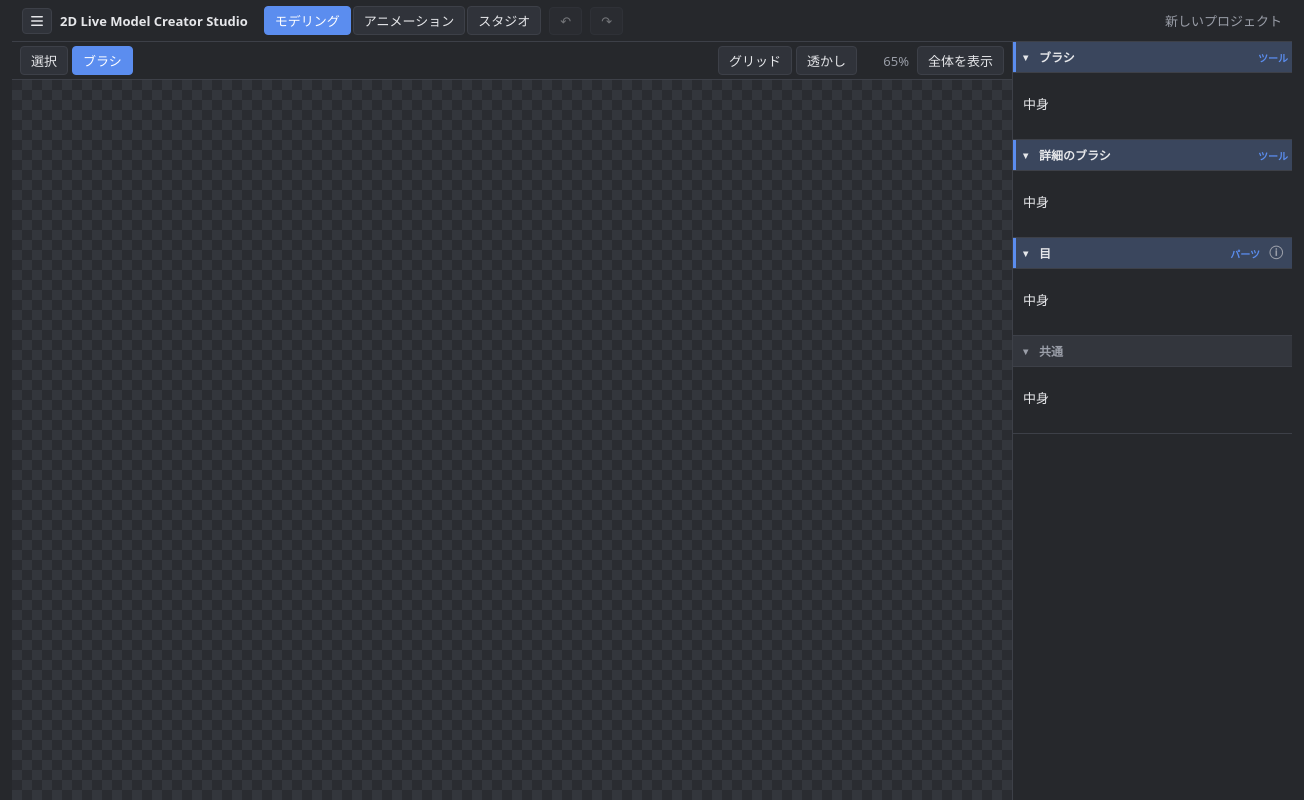
Test: 見出しの ⓘ › 説明のあるパレットにだけ出し、押すと目的と流れを出す。Esc・もう一度押すと閉じ、たたんでいても見られる
Step 1. Click the button named "「目」の説明" → (1276, 253), box [1264,241,1288,265]
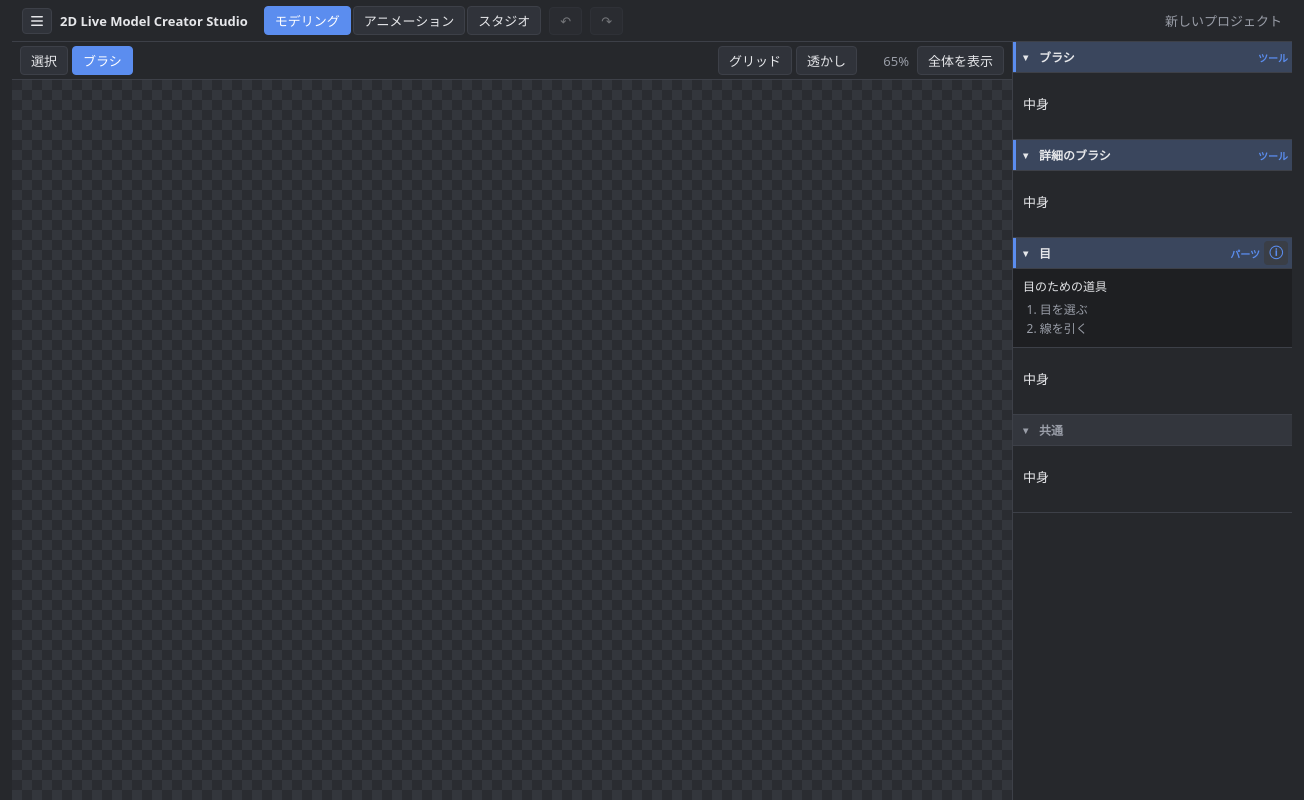
Now the element named "「目」の説明" shows "目のための道具", box [1023,278,1107,295]
Now the list items read "目を選ぶ", "線を引く", in this order, box [1040,301,1088,318]; [1040,320,1088,337]
Step 2. Press Escape in the button named "「目」の説明", box [1264,241,1288,265]
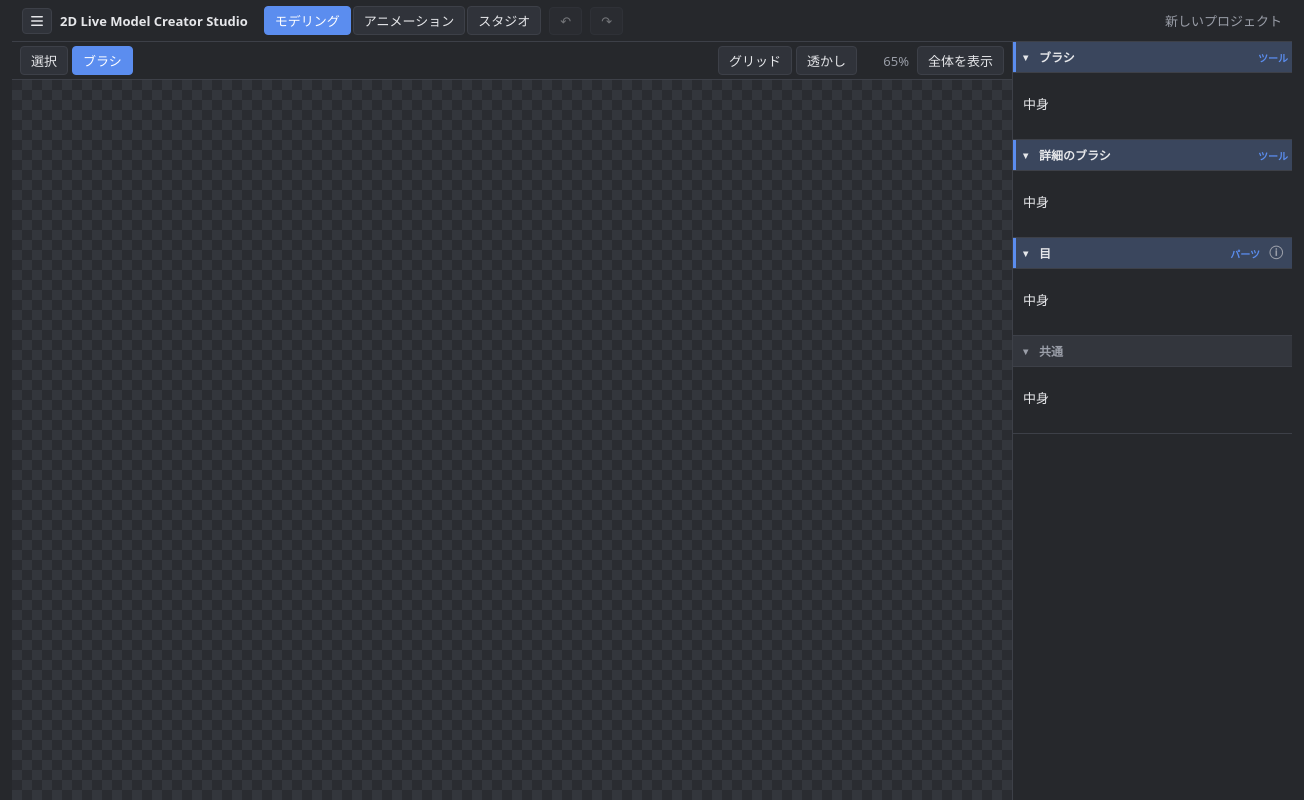
Now the text "目のための道具 目を選ぶ 線を引く" is gone
# たたんでいても説明は開ける（見出しの下に出す）
Step 3. Click the button "▾ 目" → (1120, 253), box [1013,238,1226,268]
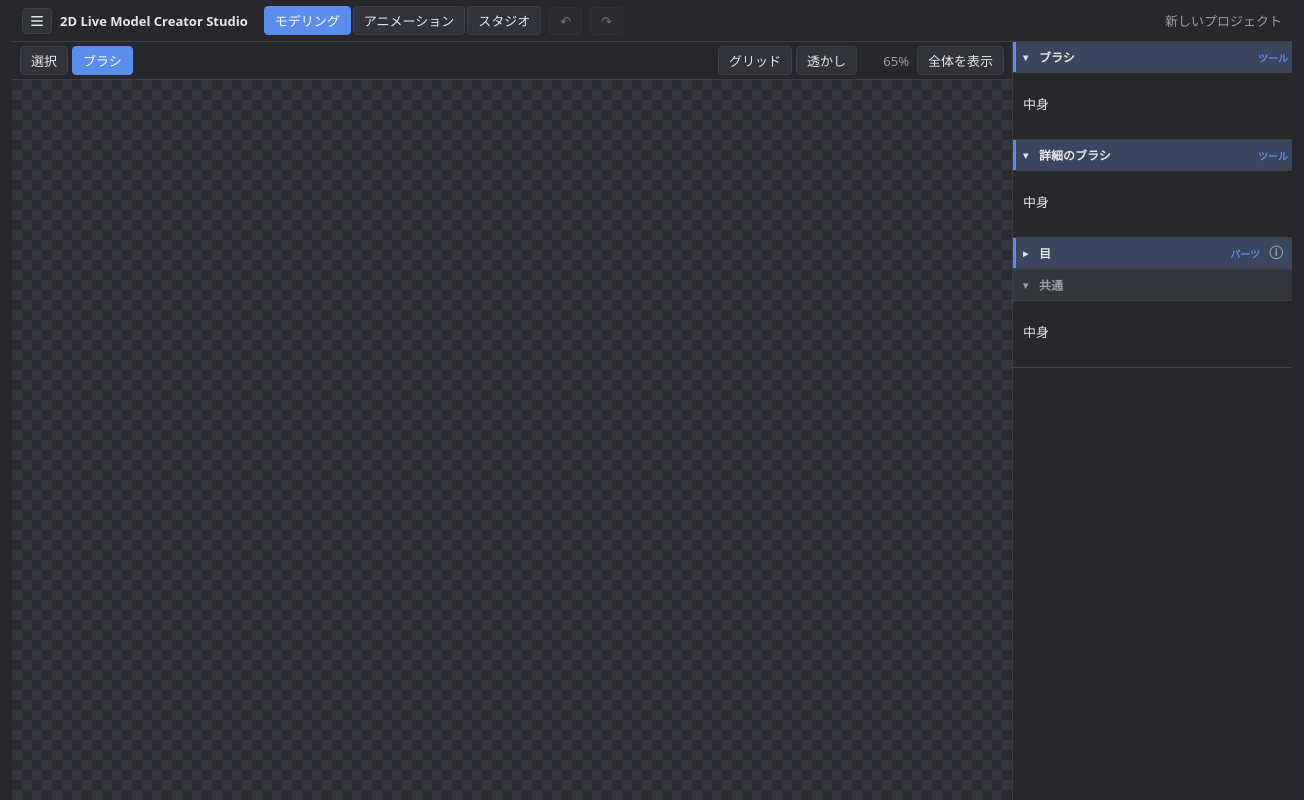
Step 4. Click the button named "「目」の説明" → (1276, 253), box [1264,241,1288,265]
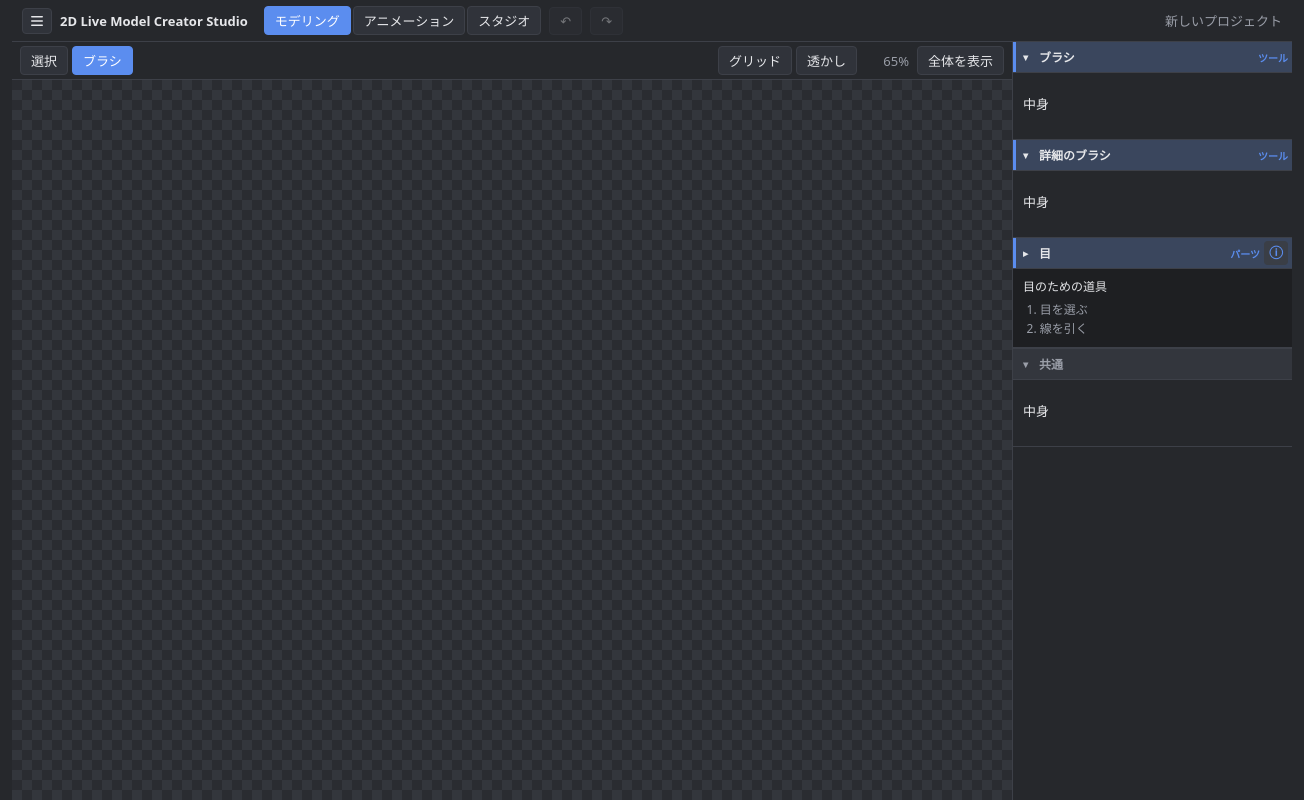
Now the element named "「目」の説明" is shown, box [1013,269,1292,348]
Step 5. Click the button named "「目」の説明" → (1276, 253), box [1264,241,1288,265]
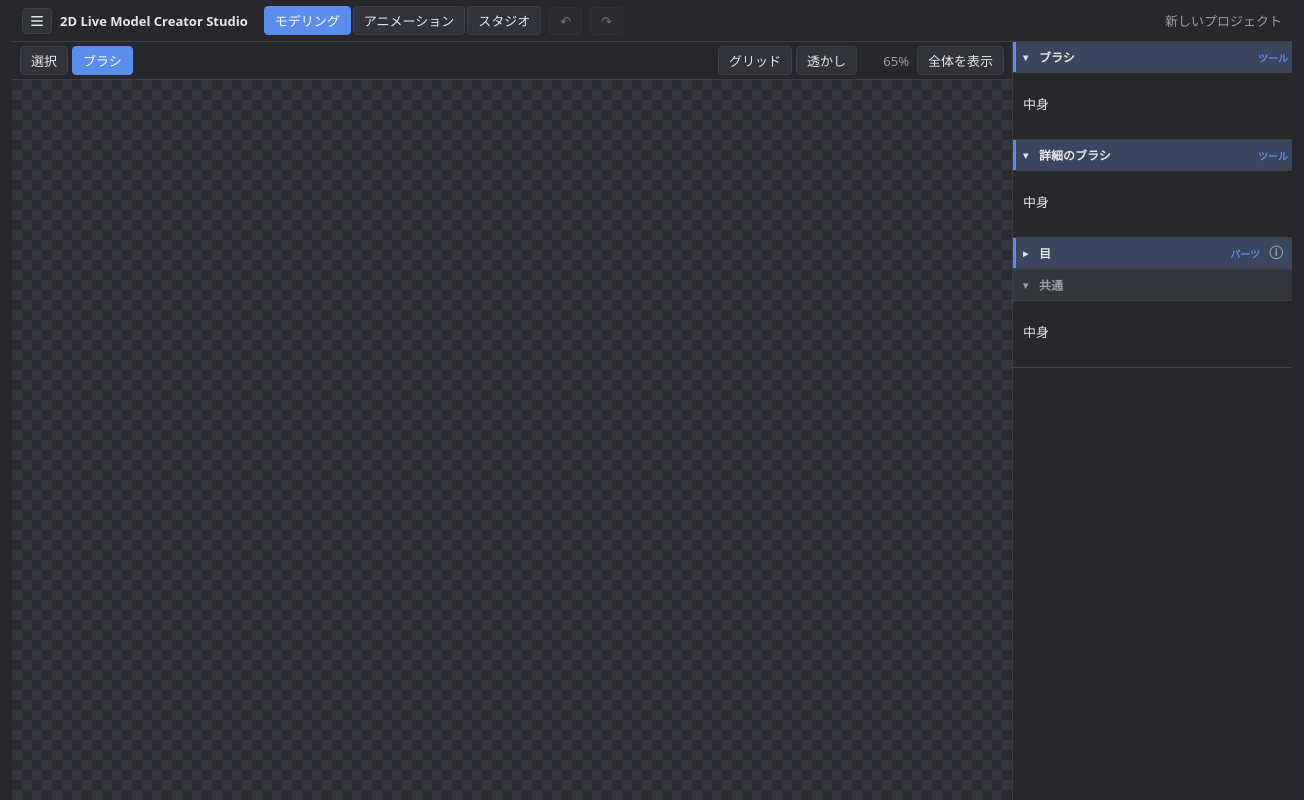
Now the text "目のための道具 目を選ぶ 線を引く" is gone
